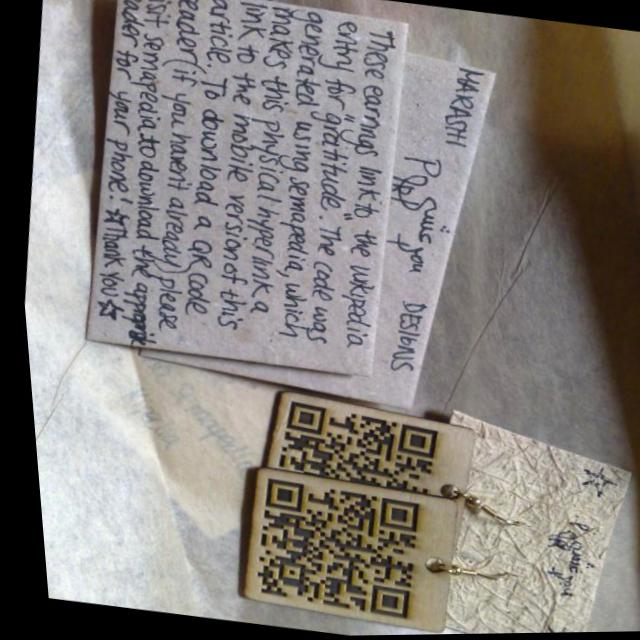qrcode: (237, 478, 419, 624), (265, 400, 436, 499)
